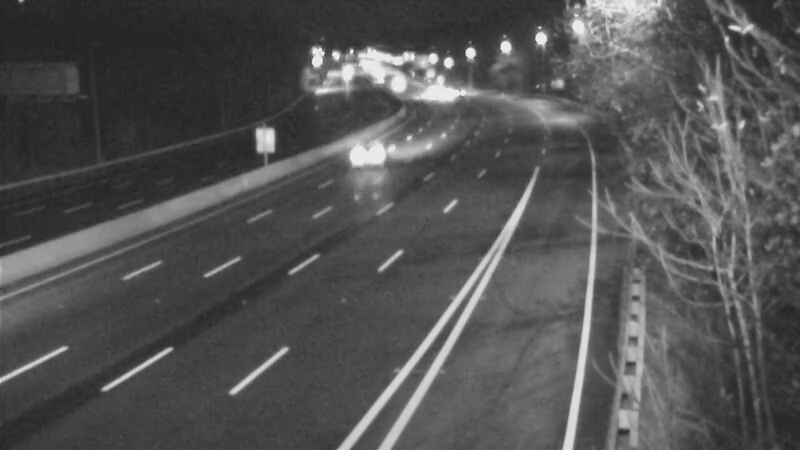vehicle: (371, 55, 421, 105), (412, 71, 462, 121), (438, 67, 488, 117), (348, 123, 398, 173)
